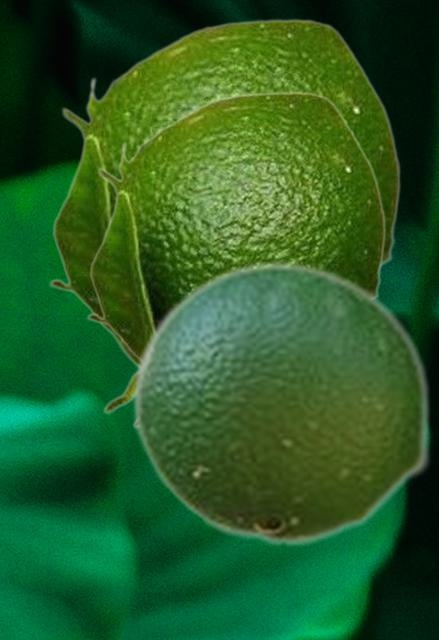dalandan: (47, 18, 400, 414), (85, 91, 385, 427), (131, 260, 431, 547)
